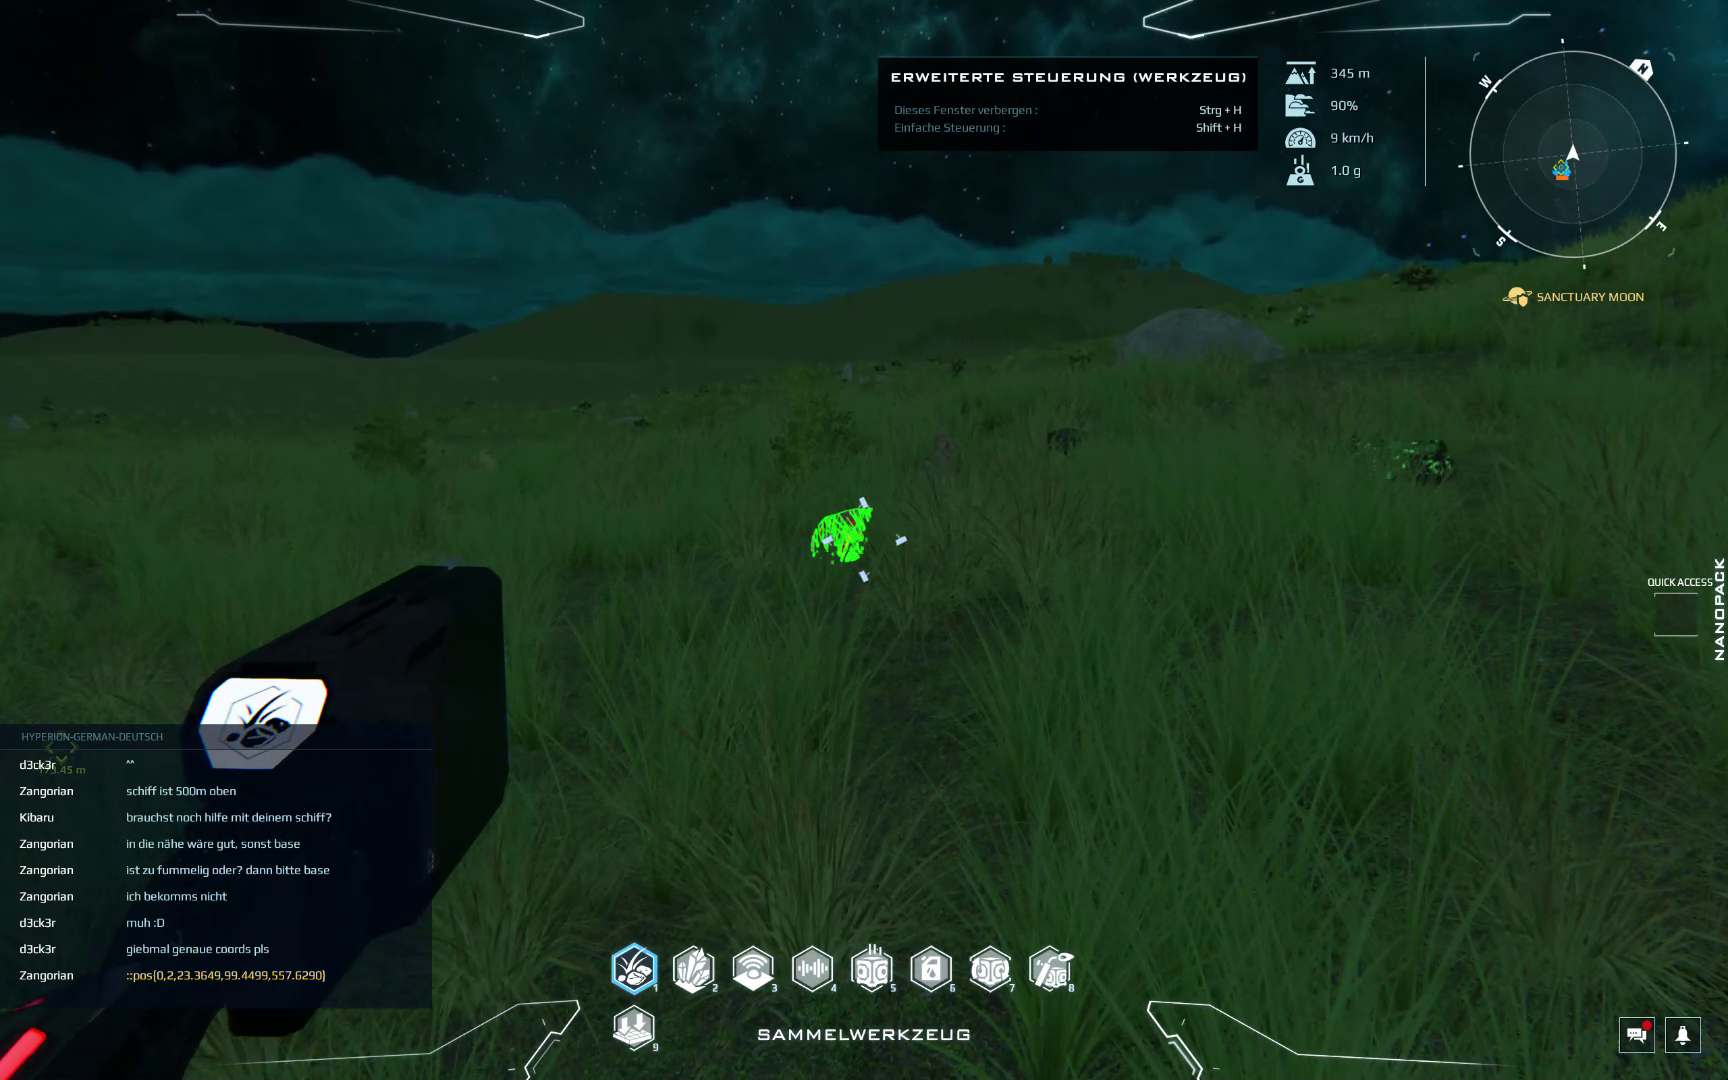Ore: (1346, 439, 1458, 486), (807, 501, 880, 572)
